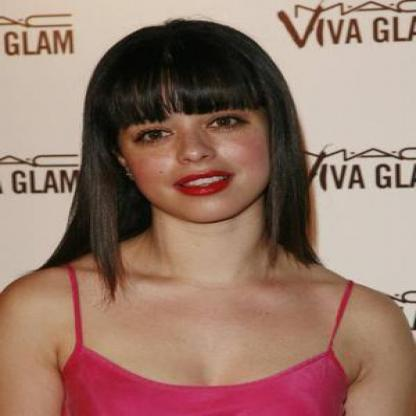long-hair: (44, 222, 346, 264)
